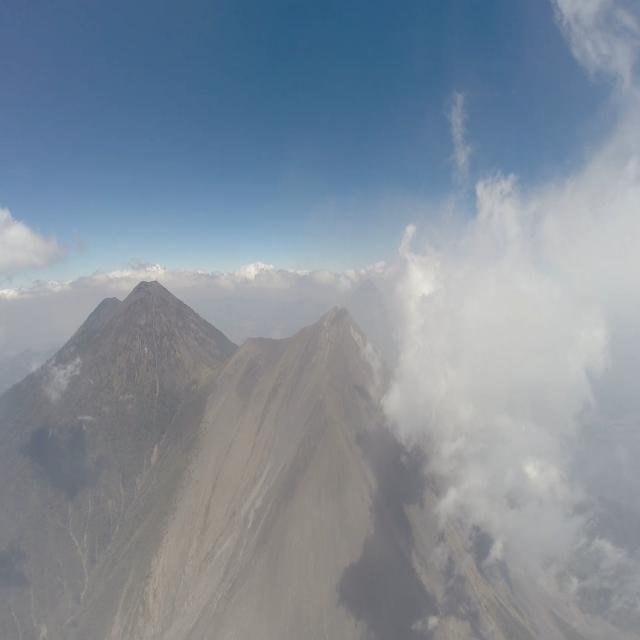Summit: (314, 299, 374, 354)
